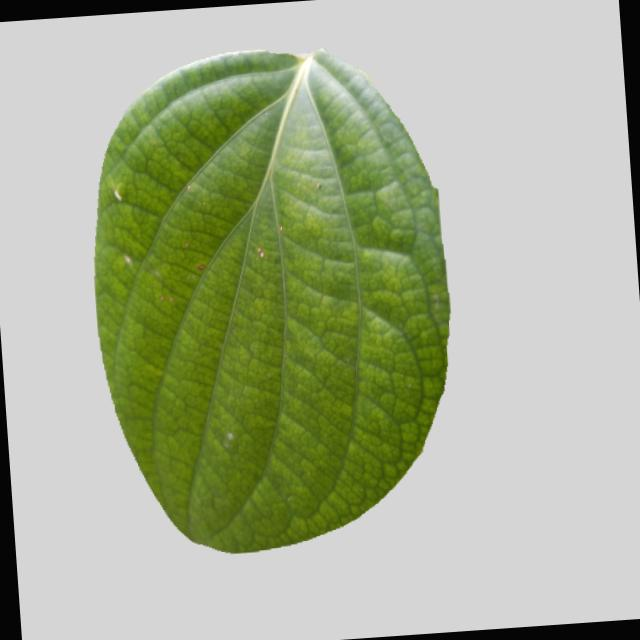healthy: (80, 41, 468, 564)
